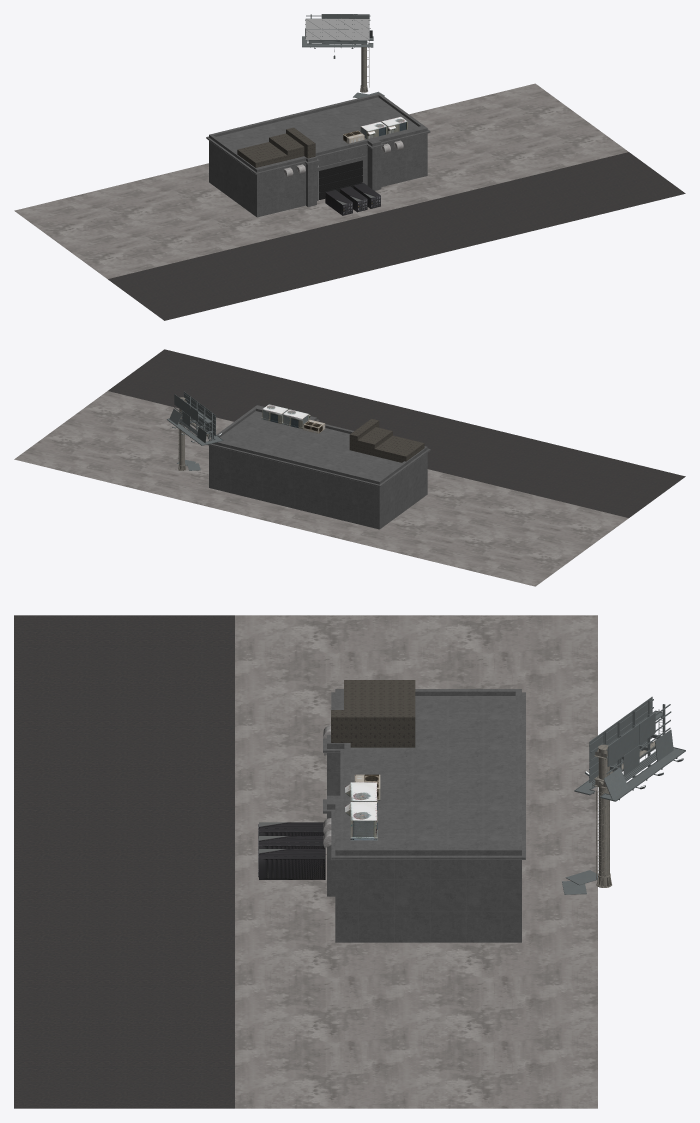
3 views of the same model, one above another, from view 1: azimuth 30°, elevation 25°; view 2: azimuth 150°, elevation 25°; view 3: azimuth 270°, elevation 25° (orthographic). The views are drawn at different scales.
Visible parts, largest first — view 1: Plane, Cube, projectsBillboard, Cube.002, Cube.030, Door Panel 1, Cube.163; view 2: Plane, Cube, projectsBillboard, Cube.002, Cube.163; view 3: Plane, Cube, projectsBillboard, Cube.002, Cube.030, Cube.163.
Boxes of the visible parts, bbox=[...] form: Plane: bbox=[14, 83, 685, 320]; Cube: bbox=[206, 93, 430, 217]; projectsBillboard: bbox=[302, 14, 384, 160]; Cube.002: bbox=[237, 127, 315, 167]; Cube.030: bbox=[325, 183, 380, 215]; Door Panel 1: bbox=[318, 160, 362, 199]; Cube.163: bbox=[360, 116, 407, 139]; Plane: bbox=[14, 349, 685, 586]; Cube: bbox=[207, 405, 430, 529]; projectsBillboard: bbox=[166, 391, 223, 470]; Cube.002: bbox=[349, 418, 424, 462]; Cube.163: bbox=[261, 404, 310, 429]; Plane: bbox=[14, 615, 597, 1108]; Cube: bbox=[323, 689, 525, 942]; projectsBillboard: bbox=[562, 696, 685, 894]; Cube.002: bbox=[331, 680, 415, 747]; Cube.030: bbox=[258, 822, 325, 879]; Cube.163: bbox=[345, 782, 377, 840].
Size of the model in its own units: 122 by 24.63 by 70.27.
Materials: 16 (16 with a texture image).
